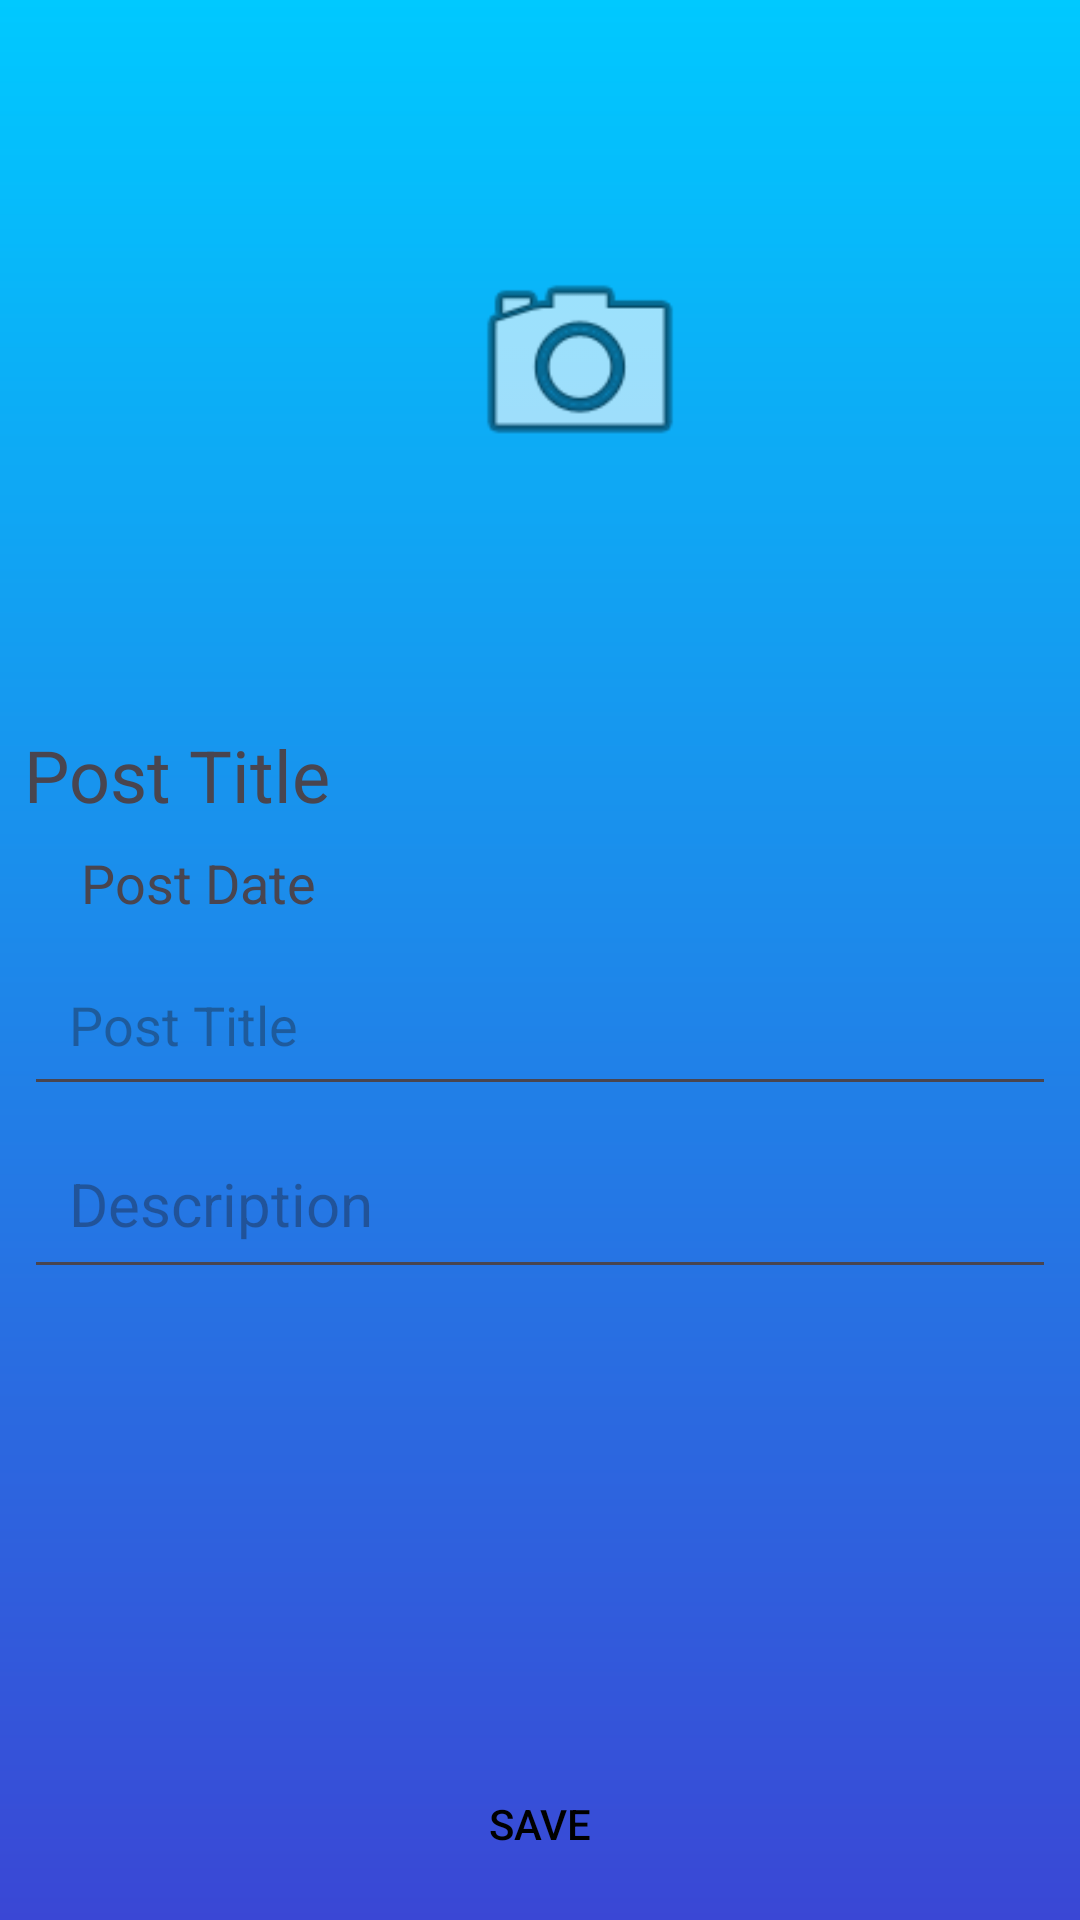

Screen size 1080px x 1920px. Icon name, then its center in pixels as point (x, y):
camera: point (580, 359)
